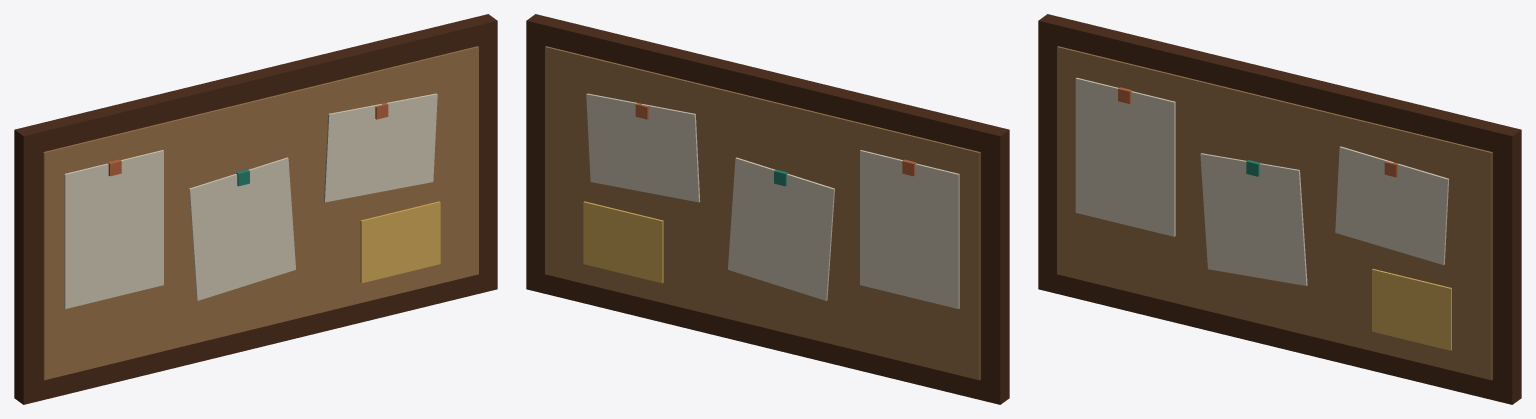
Rendered from board.gltf.
The picture shows the model from 3 angles, left to right: view 1: azimuth 30°, elevation 25°; view 2: azimuth 150°, elevation 25°; view 3: azimuth 330°, elevation 25°; orthographic projection.
Visible parts, largest first — view 1: cork, frame, paper1, paper2, paper3, paper4; view 2: cork, frame, paper1, paper2, paper3, paper4; view 3: cork, frame, paper1, paper2, paper3, paper4.
Part boxes in pixels (x1=…): cork: x1=43, y1=46, x2=478, y2=380; frame: x1=14, y1=14, x2=497, y2=404; paper1: x1=64, y1=150, x2=163, y2=308; paper2: x1=189, y1=157, x2=295, y2=300; paper3: x1=323, y1=93, x2=437, y2=202; paper4: x1=360, y1=201, x2=440, y2=283; cork: x1=545, y1=46, x2=980, y2=380; frame: x1=526, y1=14, x2=1009, y2=404; paper1: x1=860, y1=150, x2=959, y2=308; paper2: x1=728, y1=157, x2=834, y2=300; paper3: x1=586, y1=93, x2=700, y2=202; paper4: x1=583, y1=201, x2=663, y2=283; cork: x1=1057, y1=46, x2=1492, y2=380; frame: x1=1038, y1=14, x2=1521, y2=404; paper1: x1=1075, y1=77, x2=1175, y2=236; paper2: x1=1200, y1=153, x2=1307, y2=285; paper3: x1=1335, y1=146, x2=1448, y2=264; paper4: x1=1372, y1=269, x2=1451, y2=350.
Bounding box in the file's own units: 2.4 × 1.3 × 0.14.
